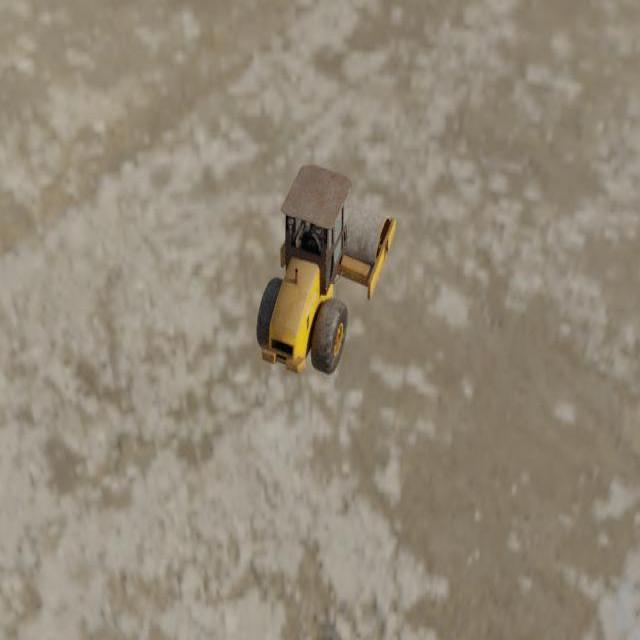Roller: (255, 164, 396, 375)
